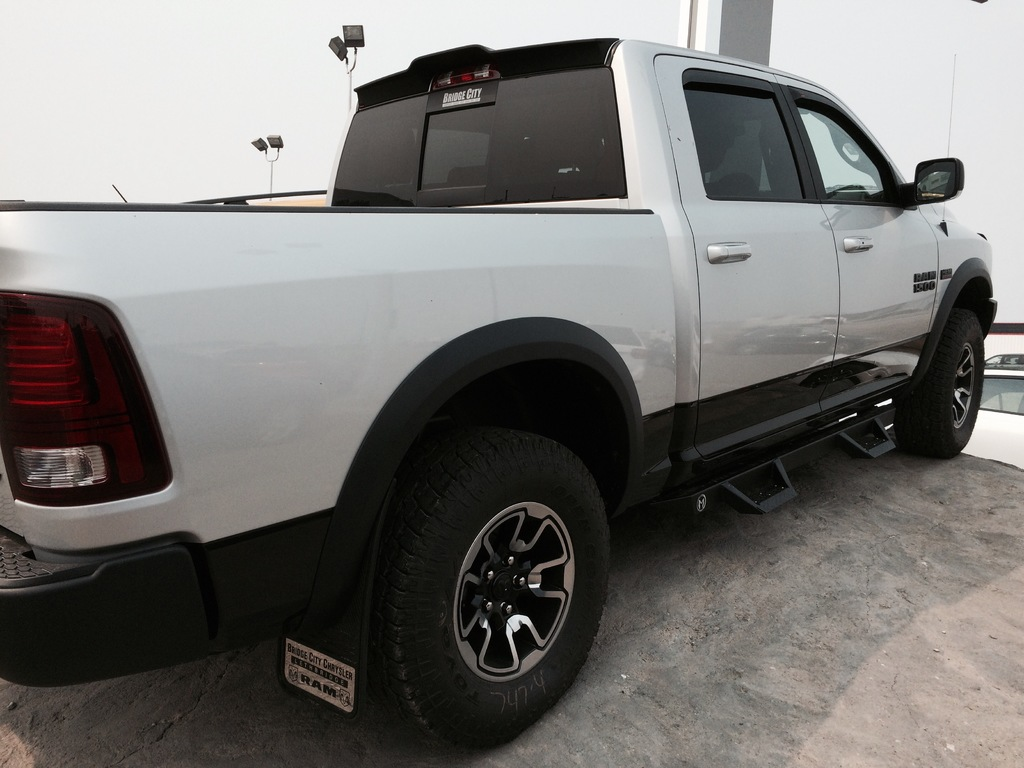Car: (0, 38, 999, 760), (840, 362, 1023, 471), (985, 355, 1023, 364)
